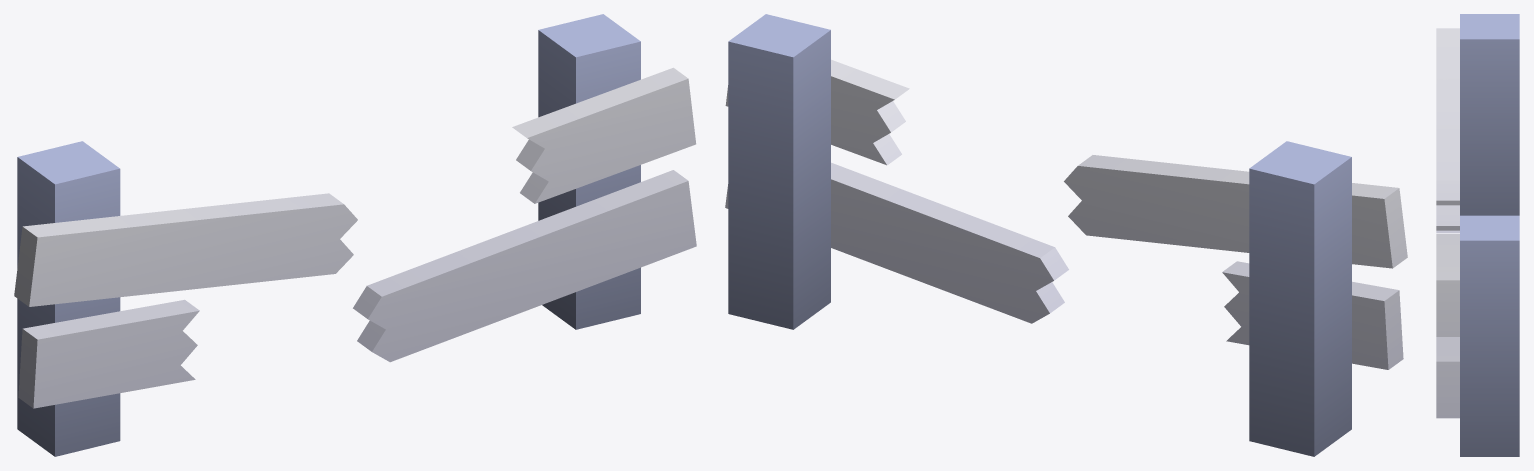
File: fence-broken.glb
The picture shows the model from 3 angles, left to right: view 1: azimuth 30°, elevation 25°; view 2: azimuth 150°, elevation 25°; view 3: azimuth 270°, elevation 25°; orthographic projection. The views are drawn at different scales.
Parts seen in each view (by area): view 1: fence-broken; view 2: fence-broken; view 3: fence-broken.
Boxes of the visible parts, bbox=[...] form: fence-broken: bbox=[14, 14, 696, 456]; fence-broken: bbox=[725, 14, 1407, 456]; fence-broken: bbox=[1436, 14, 1519, 456].
Bounding box in the file's own units: 1.03 × 0.4 × 0.14.
